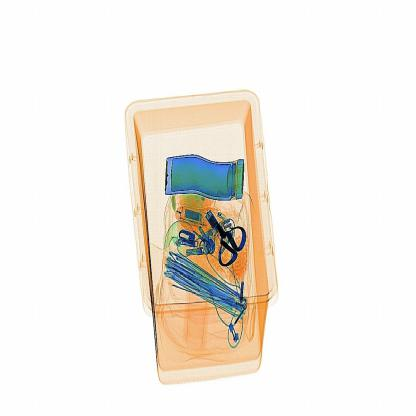gun: (209, 218, 252, 274)
